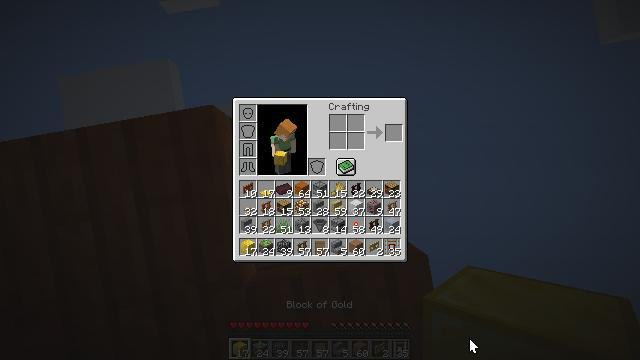cursor: (469, 338, 479, 354)
